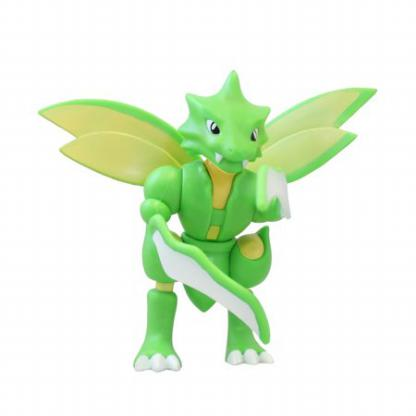Scyther: (27, 16, 416, 416)
